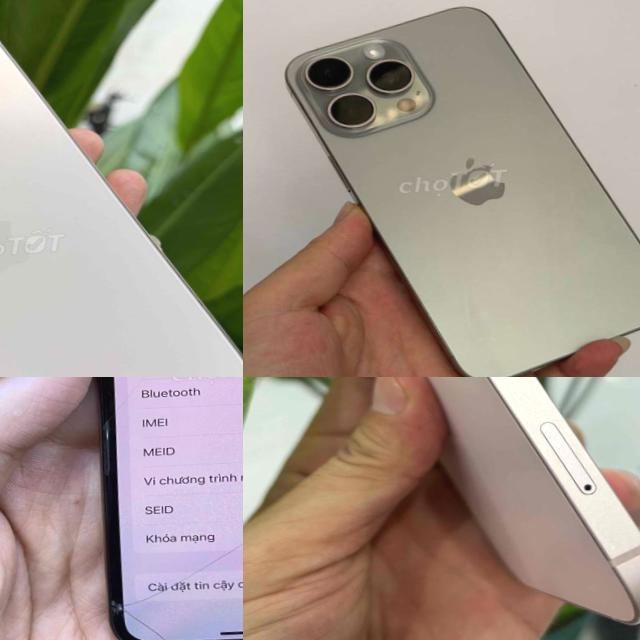gen_12_13: (257, 377, 640, 640)
gen_15: (268, 0, 640, 377)
gen_16: (0, 43, 243, 377)
gen_x_xs: (65, 377, 243, 640)
physical_damage: (73, 377, 243, 640)
